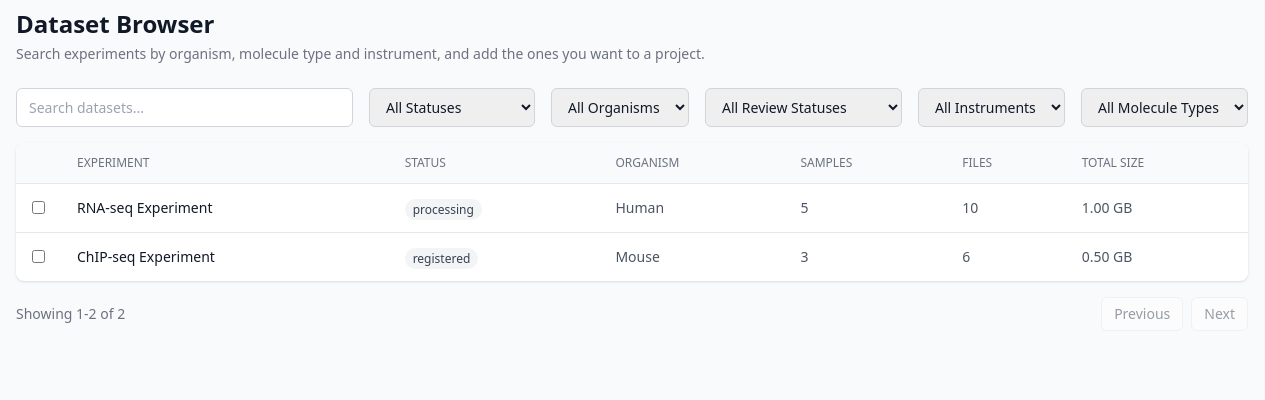
Scenario: DataBrowserPage - file reassignment › shows action toolbar when experiments are selected
Expected: the text "RNA-seq Experiment" is shown, [61,184,389,232]
Click the checkbox named "Select RNA-seq Experiment" at coordinates (38, 208), box [32,201,45,214]
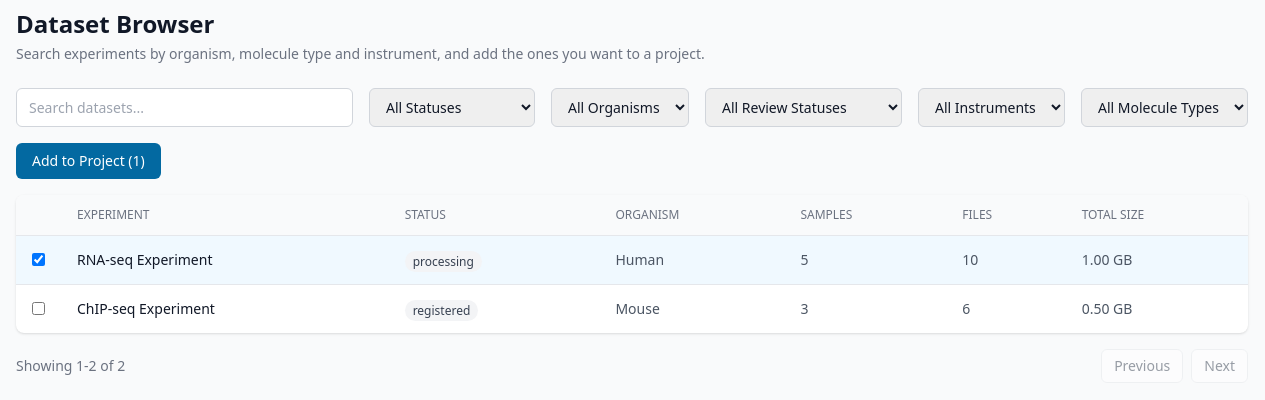
Now the button "Add to Project (1)" is shown, box [16,143,161,179]
